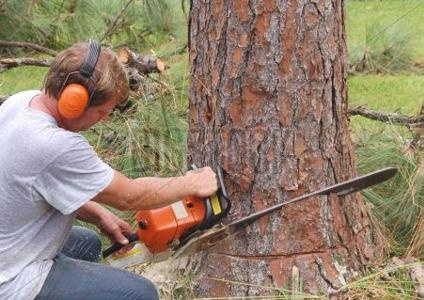person: (1, 39, 221, 300)
